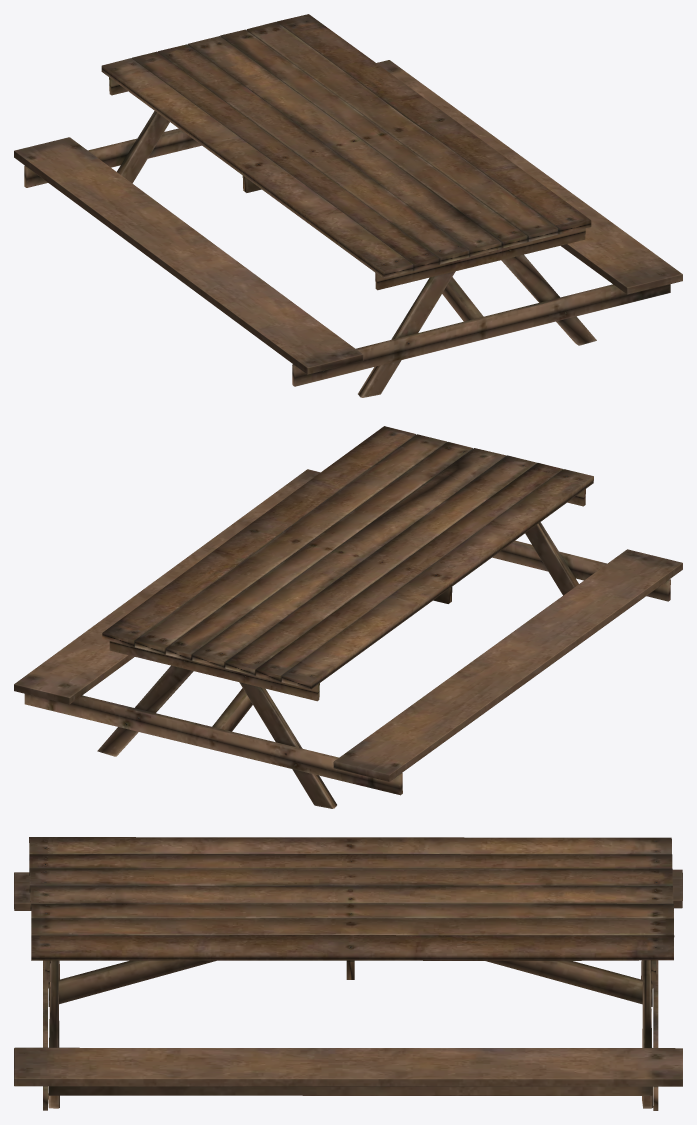
File: wooden_picnic_table.glb
3 views of the same model, one above another, from view 1: azimuth 30°, elevation 25°; view 2: azimuth 150°, elevation 25°; view 3: azimuth 270°, elevation 25° (orthographic). The views are drawn at different scales.
Visible parts, largest first — view 1: wooden_picnic_table; view 2: wooden_picnic_table; view 3: wooden_picnic_table.
Part boxes in pixels (left/top/right/bottom): wooden_picnic_table: left=14, top=14, right=682, bottom=397; wooden_picnic_table: left=14, top=426, right=682, bottom=808; wooden_picnic_table: left=14, top=837, right=682, bottom=1110.
Size of the model in its own units: 2.24 by 0.7423 by 3.02.
Materials: 2 (2 with a texture image).
